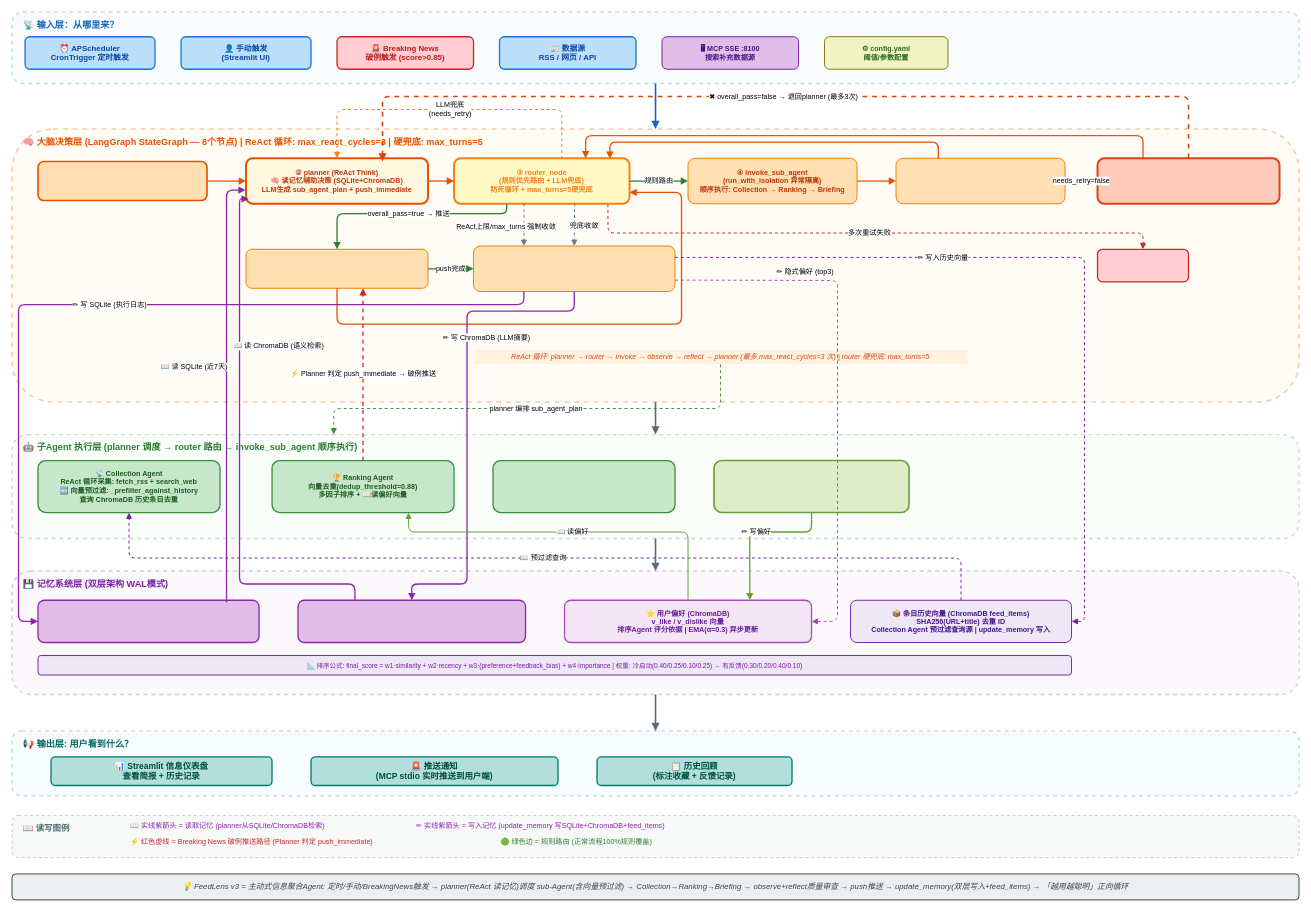
This 1311x911 diagram has some shape labels left out. Each missing label, with the centre of its shape:
"① understand_intent (LLM提取 structured_goal + goal_embedding)" belongs at point (122, 180).
"⑤ observe_results (结构化观察评估: 采集/排序/简报 质量判断)" belongs at point (980, 180).
"⑥ coordinator_reflect (综合审查: 完整性+去重+追溯+矛盾) overall_pass=false → 退回planner" belongs at point (1188, 180).
"⑦ push_notification (MCP stdio 推送通知) push_immediate=true 破例推送" belongs at point (336, 268).
"⑧ update_memory (SQLite 执行日志 + ChromaDB 摘要/偏好向量) 含条目历史向量写入 (跨批次预过滤)" belongs at point (574, 268).
"⛔ abort (放弃本次执行)" belongs at point (1143, 265).
"💬 FeedbackAgent (独立入口) 用户反馈 → EMA(α=0.3) 更新偏好 ✏️ 写偏好向量 (v_like/v_dislike)" belongs at point (811, 486).
"📚 长期记忆 (ChromaDB) LLM 摘要 200字 → 每次执行直接写入 语义检索匹配历史类似场景" belongs at point (411, 621).
"📝 Briefing Agent LLM 生成简报 + 质量评分 内部重试机制 (max_retry=2)" belongs at point (583, 486).
"📝 情节记忆 (SQLite) execution_logs 表 — 存储近7天执行日志 planner 检索近期采集/排序/简报效果" belongs at point (148, 621).
